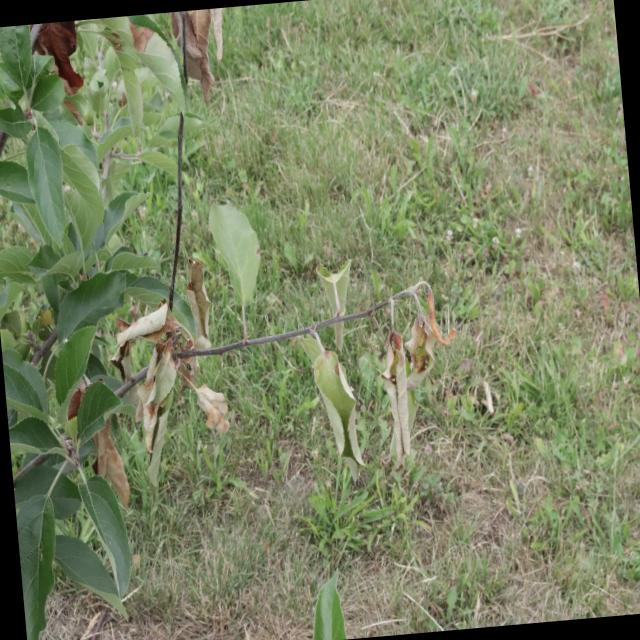-FireBlight-: (109, 294, 234, 448), (296, 320, 372, 470), (370, 283, 416, 452), (166, 7, 232, 110), (398, 260, 453, 359), (20, 20, 84, 92), (84, 412, 132, 498)
